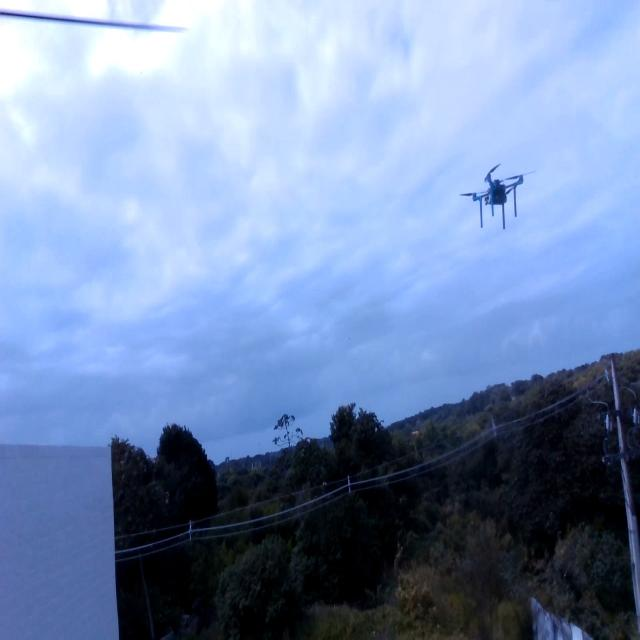-uav-: (456, 151, 542, 240)
